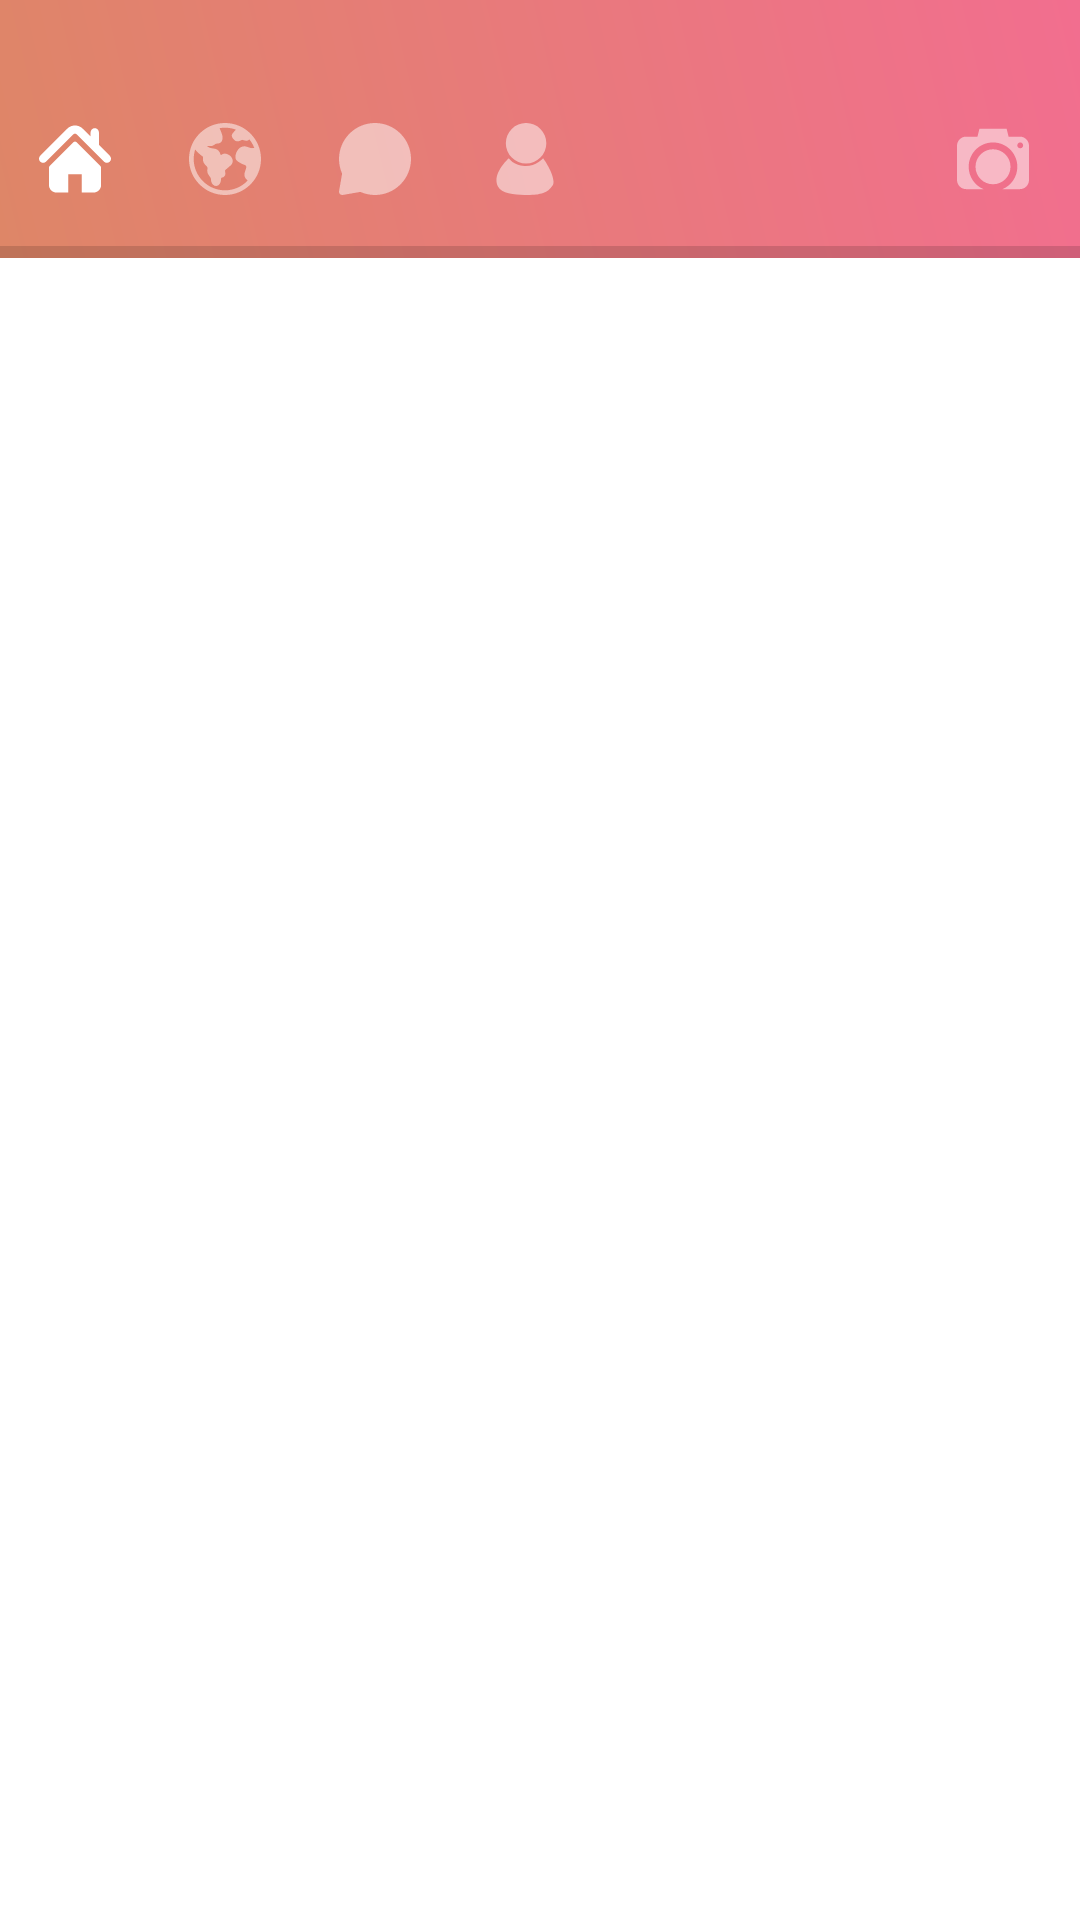

Point at icon controls on the screen. Image size 1080w x 1920h, points as (x=x, y=y).
camera: (x=993, y=159)
global: (x=225, y=159)
home: (x=75, y=159)
message: (x=375, y=159)
profile: (x=525, y=159)
